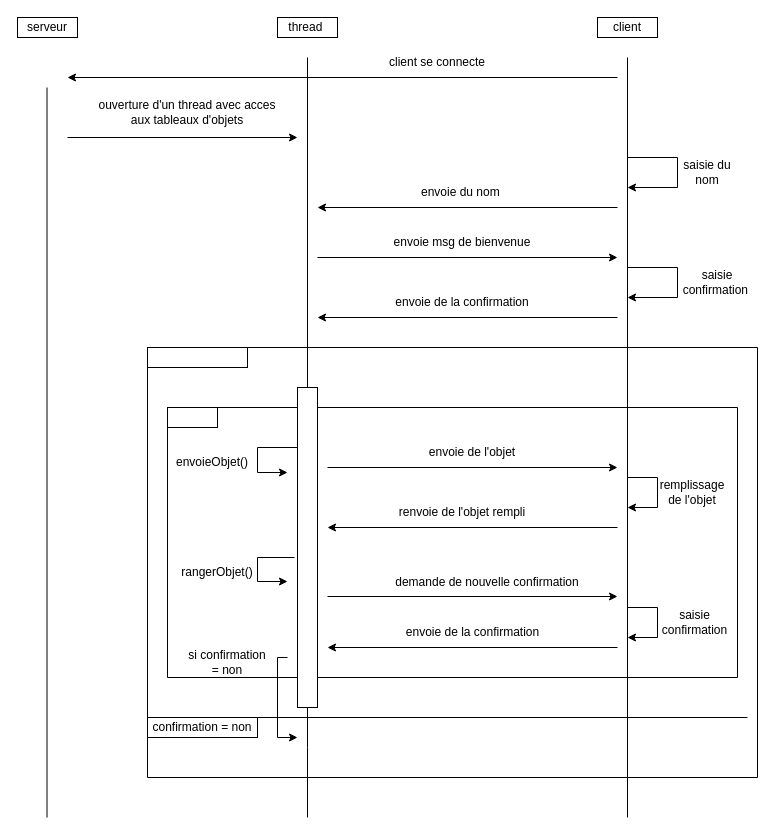
This 776x836 diagram has some shape labels left out. The shapes that lost their labels are listed below. From the top down, each one's centre as x and y in pixels, then its label:
At pixel 197 357: "confirmation = oui".
At pixel 192 417: "boucle".
